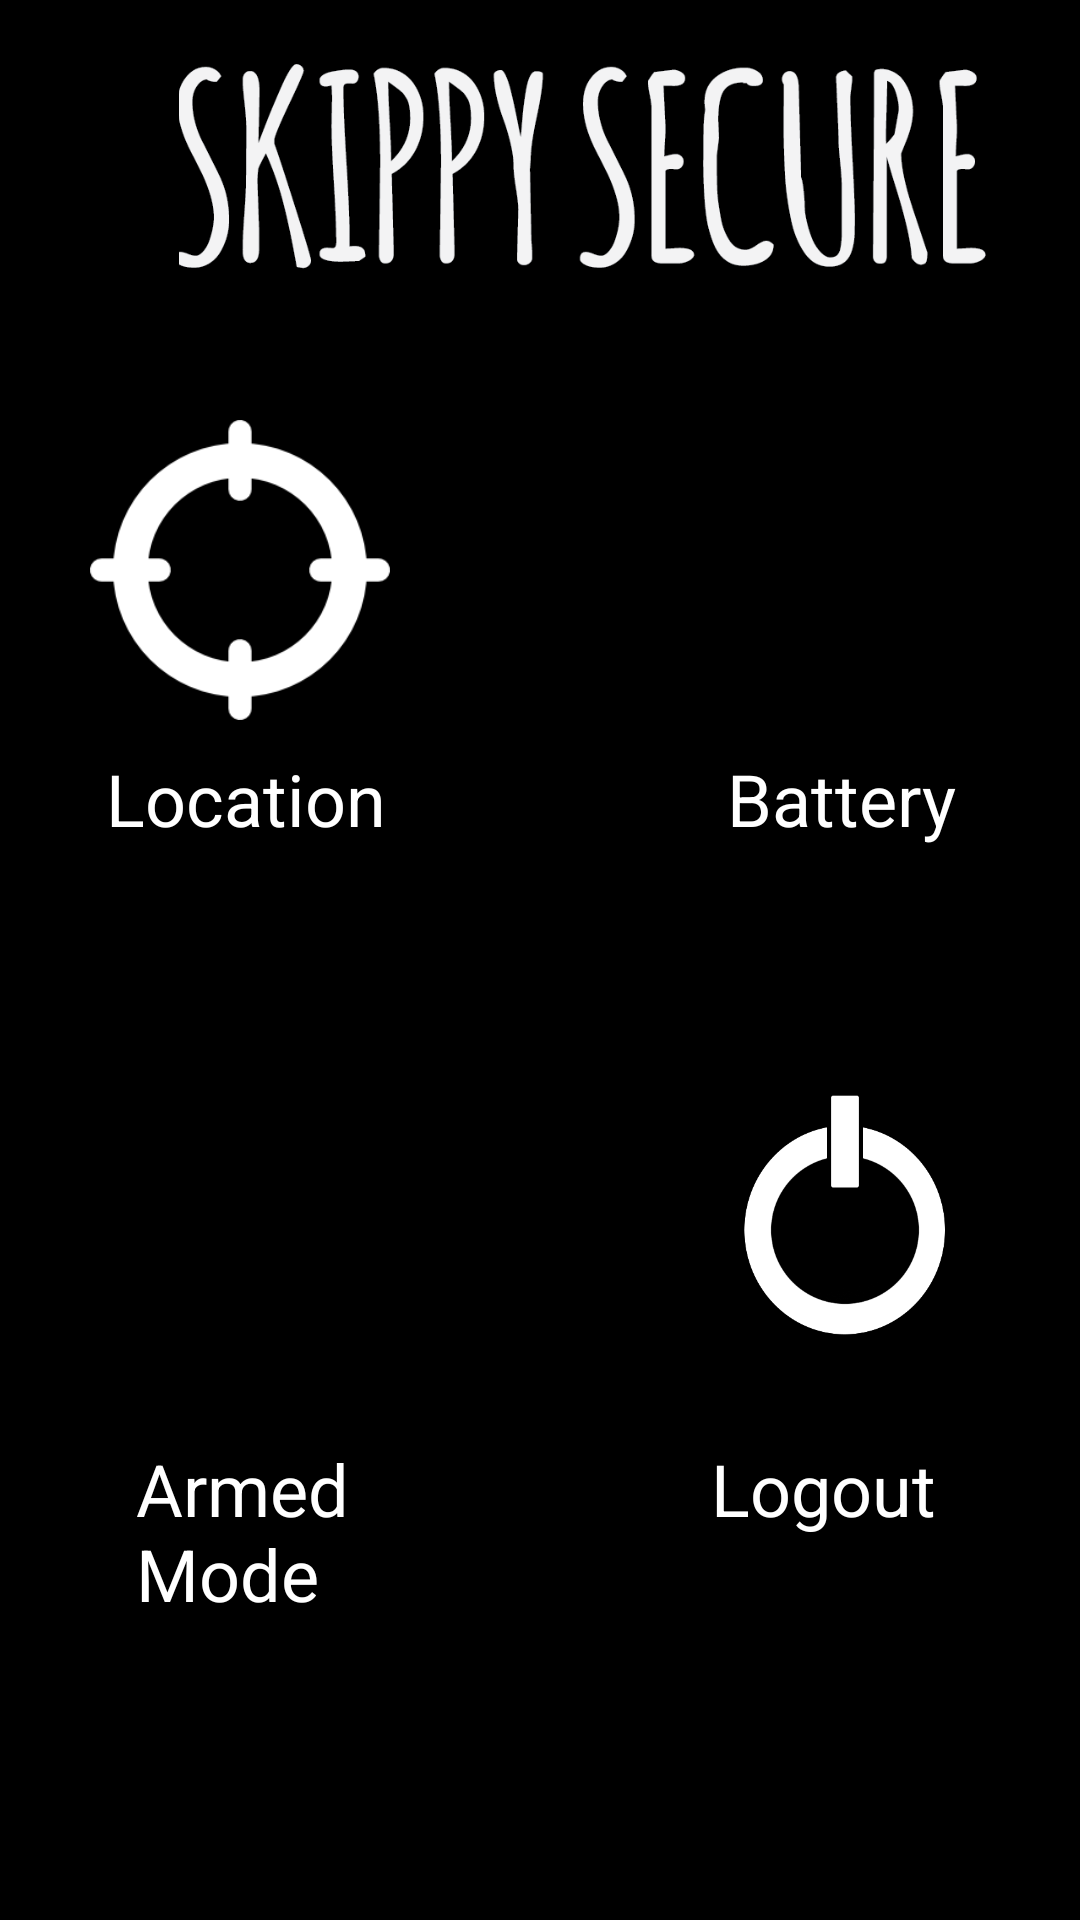

Icon bounding boxes for this 1080 × 1920 phone screenshot, format (x1, y1, x2, y2):
power: (744, 1095, 945, 1335)
